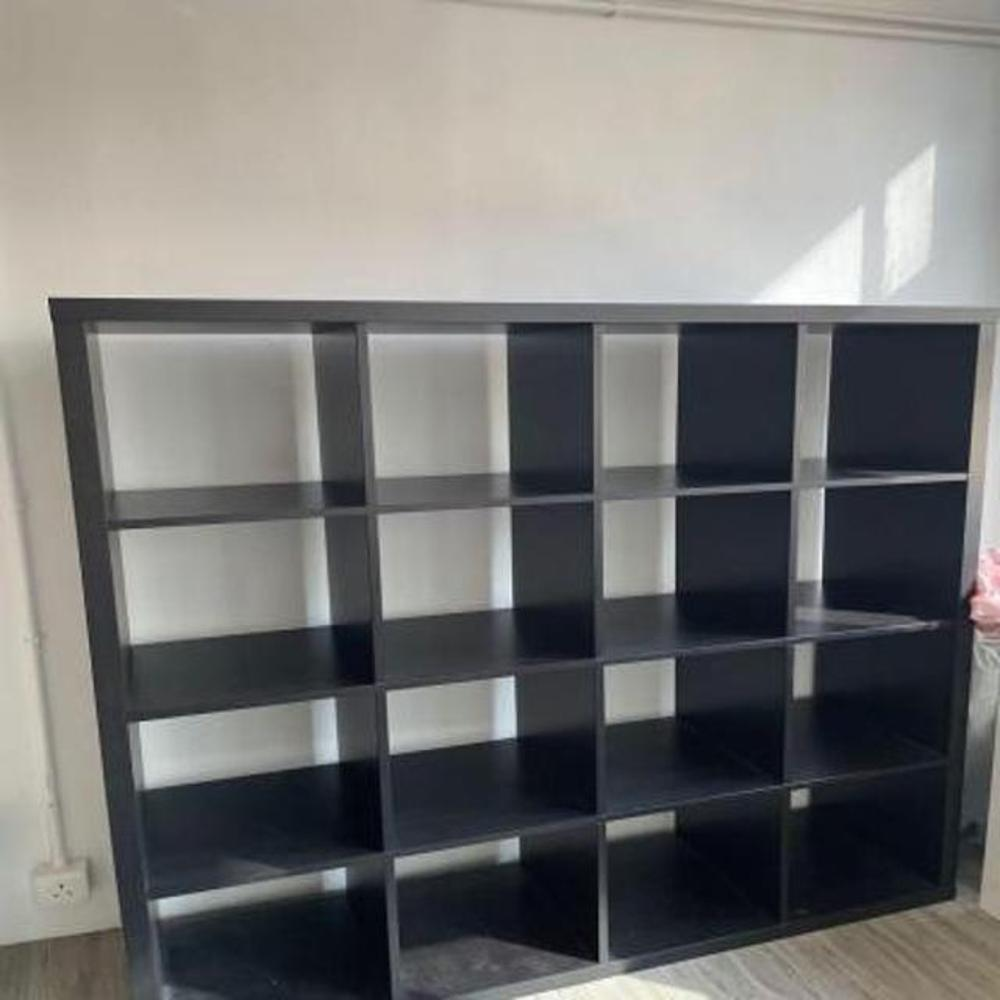lamp: (45, 294, 998, 999)
